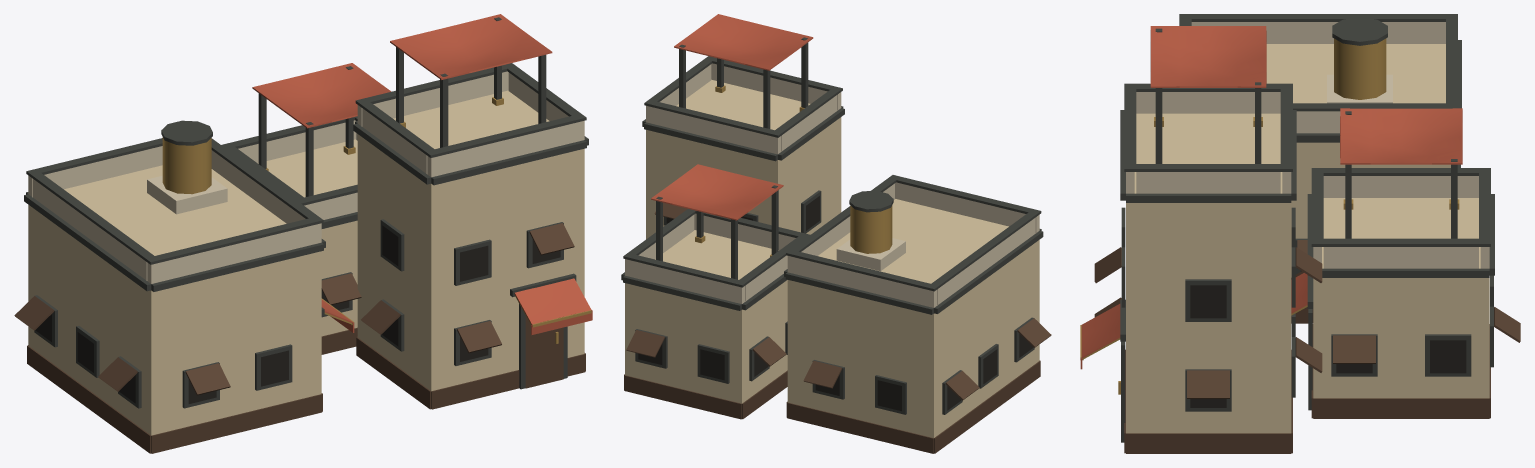
Rendered from lower_block_b.glb.
3 views of the same model, side by side, from view 1: azimuth 30°, elevation 25°; view 2: azimuth 150°, elevation 25°; view 3: azimuth 270°, elevation 25° (orthographic). The views are drawn at different scales.
Visible parts, largest first — view 1: lower_block_b; view 2: lower_block_b; view 3: lower_block_b.
Part boxes in pixels (x1,y1,x2,y2): lower_block_b: (14, 14, 592, 453); lower_block_b: (621, 14, 1051, 453); lower_block_b: (1080, 14, 1520, 453).
Size of the model in its own units: 10.73 by 7.11 by 8.
